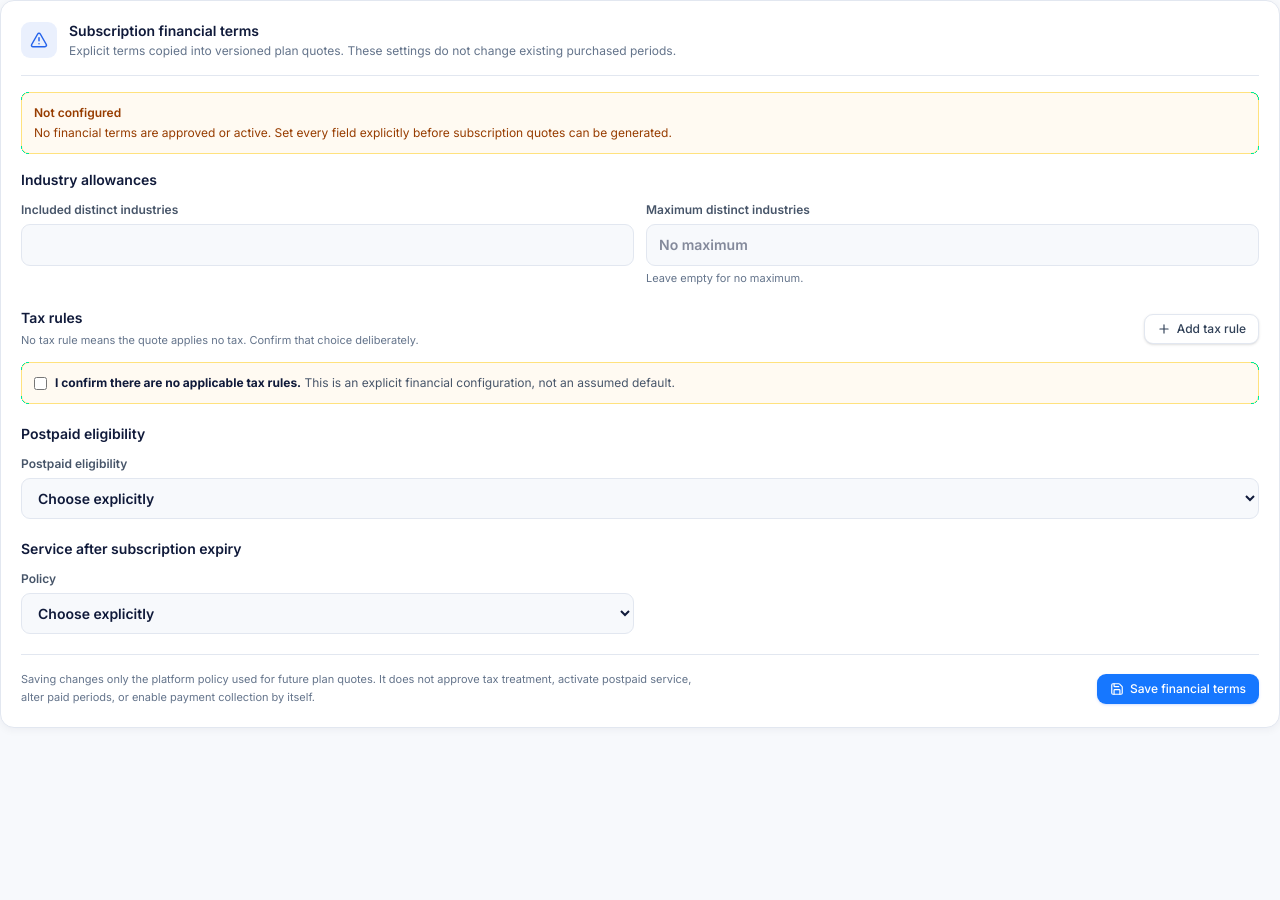
subscription terms policy editor › shows an unconfigured state and requires explicit confirmation for no taxes
Expected: the text "Not configured" is shown, [34,105,121,120]
Expected: the text "No financial terms are approved or active" is shown, [34,125,672,140]
Type "1" into the number field labelled "Included distinct industries" at (328, 245), box [21,224,634,266]
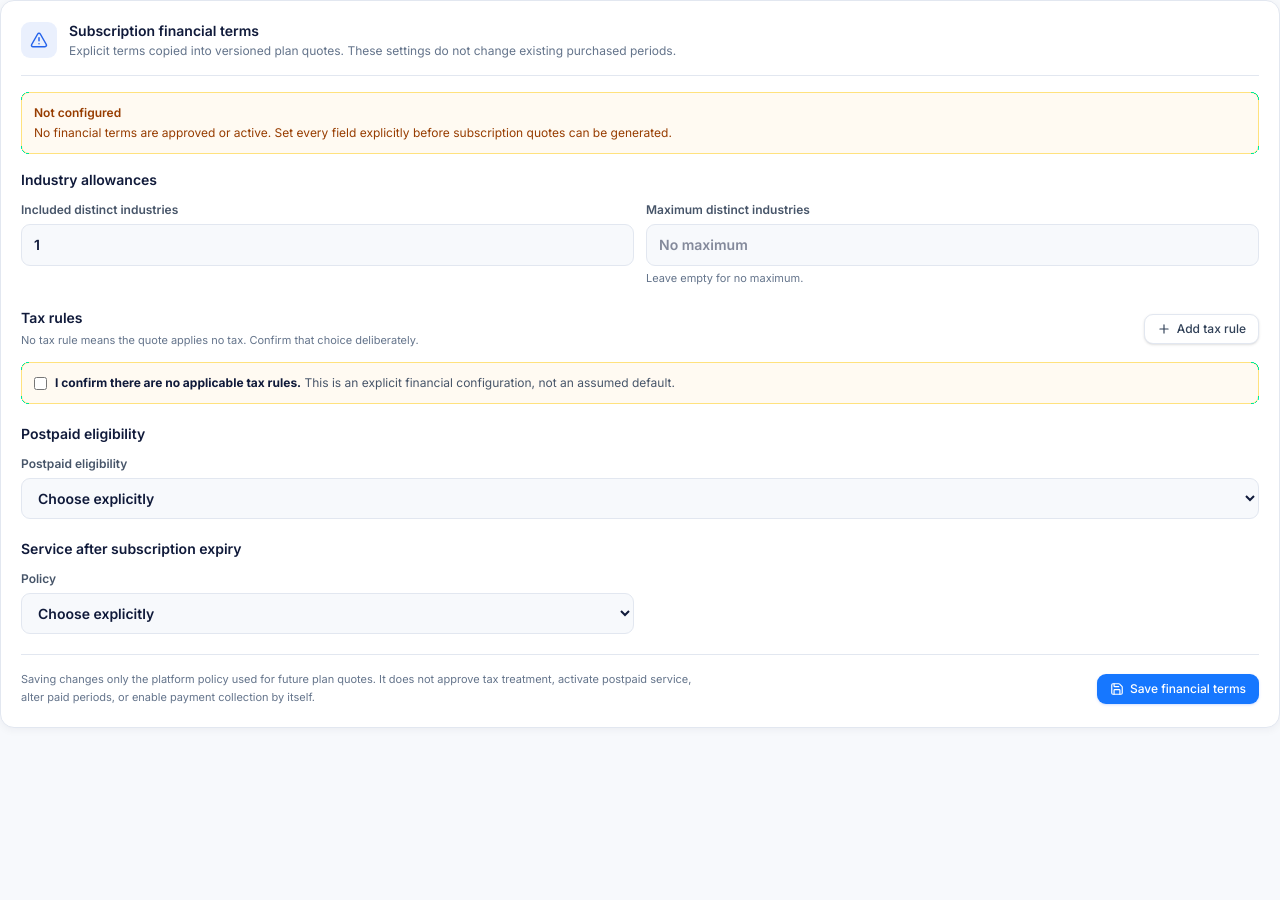
Select "Suspend at expiry" in the dropdown labelled "Policy" at (328, 613), box [21,593,634,634]
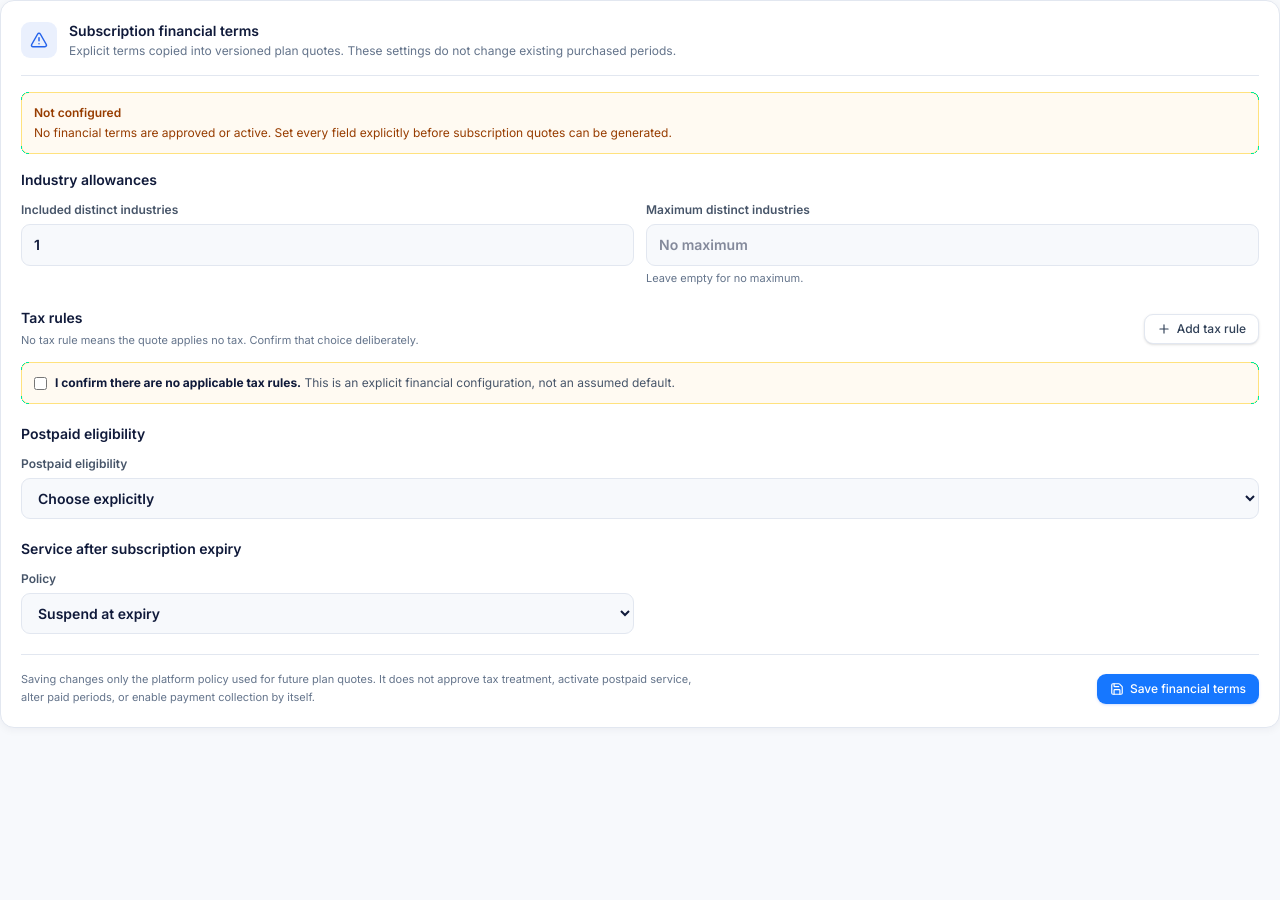
Select "Not eligible" in the dropdown labelled "Postpaid eligibility" at (640, 498), box [21,478,1259,519]
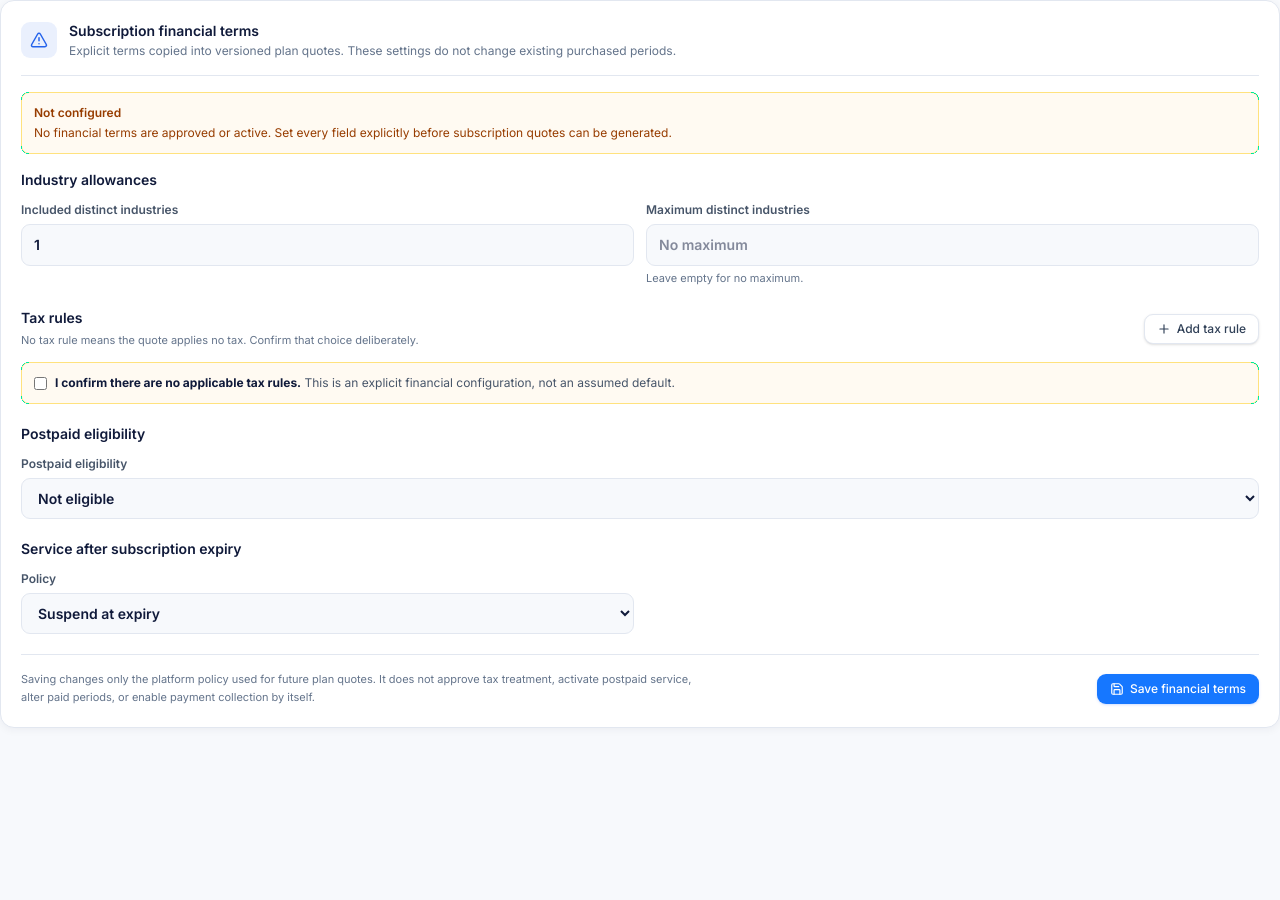
Click the button "Save financial terms" at (1178, 689), box [1097,674,1259,704]
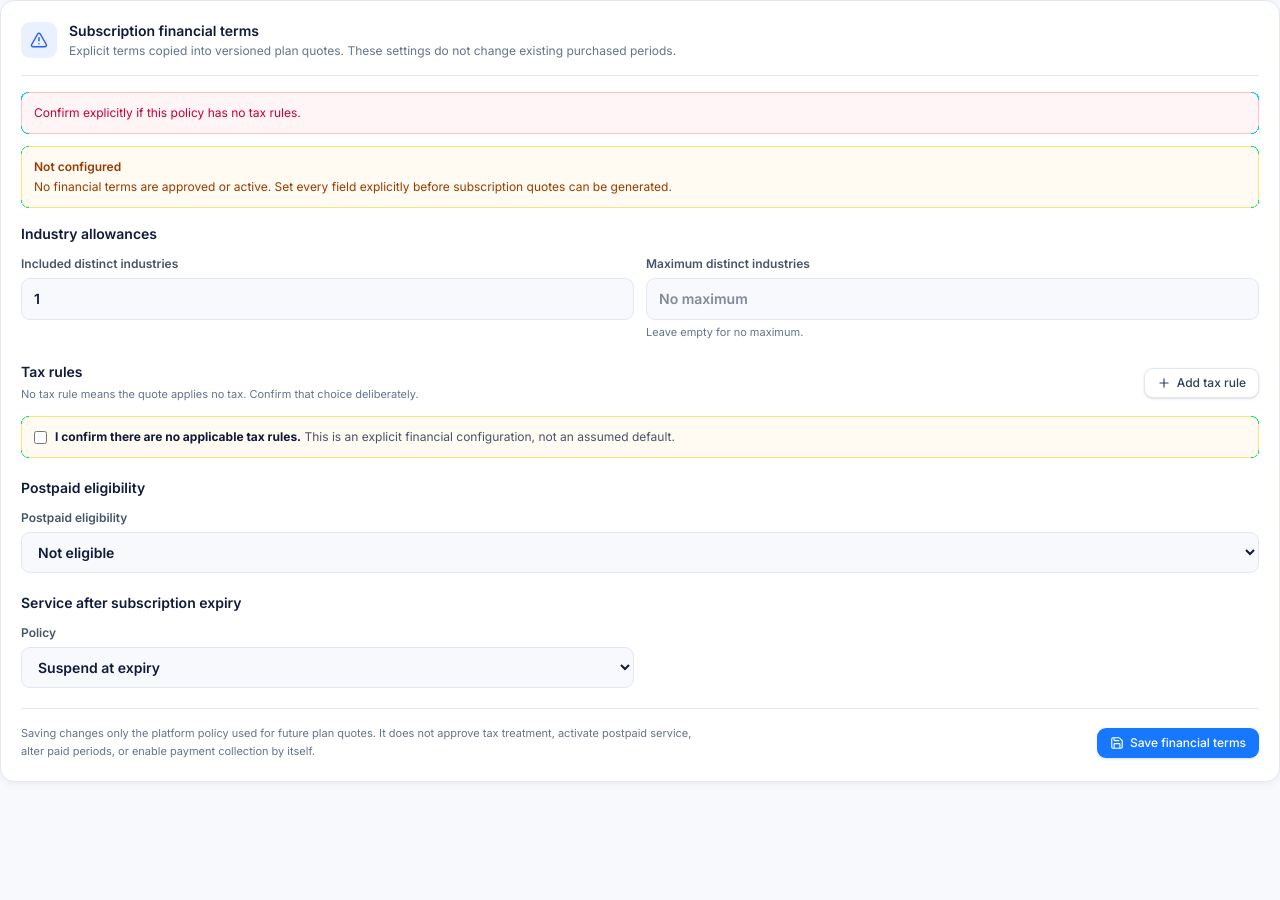
Expected: the message reads "Confirm explicitly if this policy has no tax rules.", [34,105,301,120]
